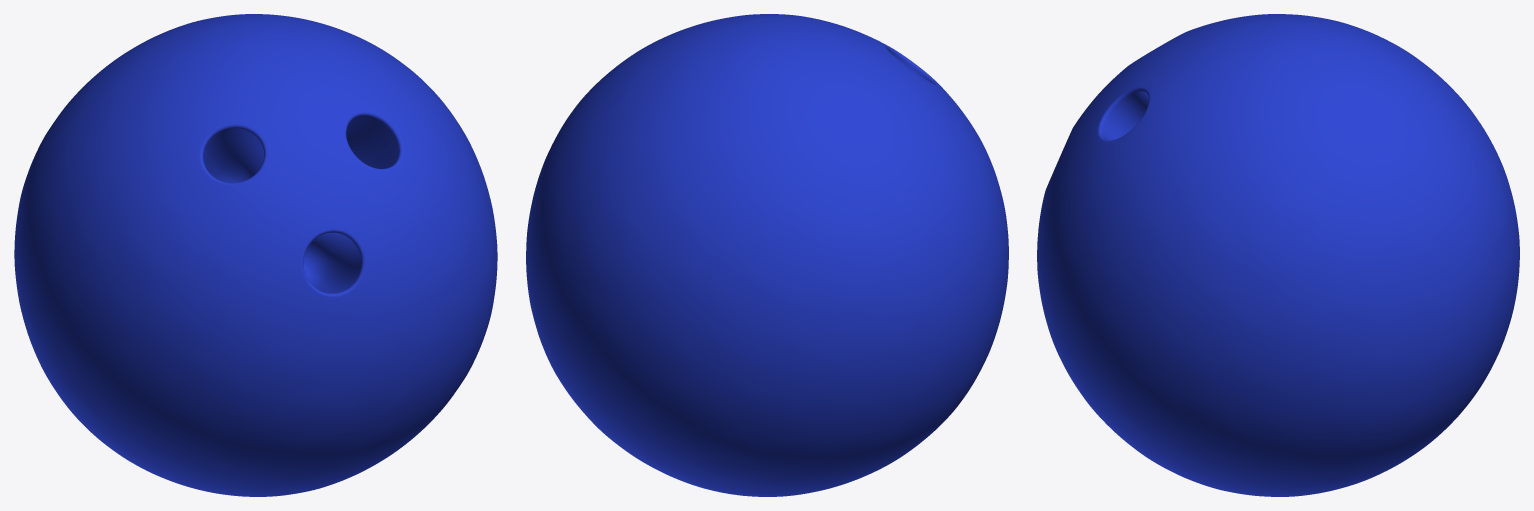
Rendered from BowlingBall.fbx.
3 renders of one model, left to right at view 1: azimuth 30°, elevation 25°; view 2: azimuth 150°, elevation 25°; view 3: azimuth 270°, elevation 25°, orthographic.
Visible parts, largest first — view 1: bowling ball.001; view 2: bowling ball.001; view 3: bowling ball.001.
Part boxes in pixels (bbox=[...]): bowling ball.001: bbox=[14, 14, 497, 496]; bowling ball.001: bbox=[526, 14, 1008, 496]; bowling ball.001: bbox=[1037, 14, 1519, 496].
Bounding box in the file's own units: 21.53 × 21.67 × 21.57.
